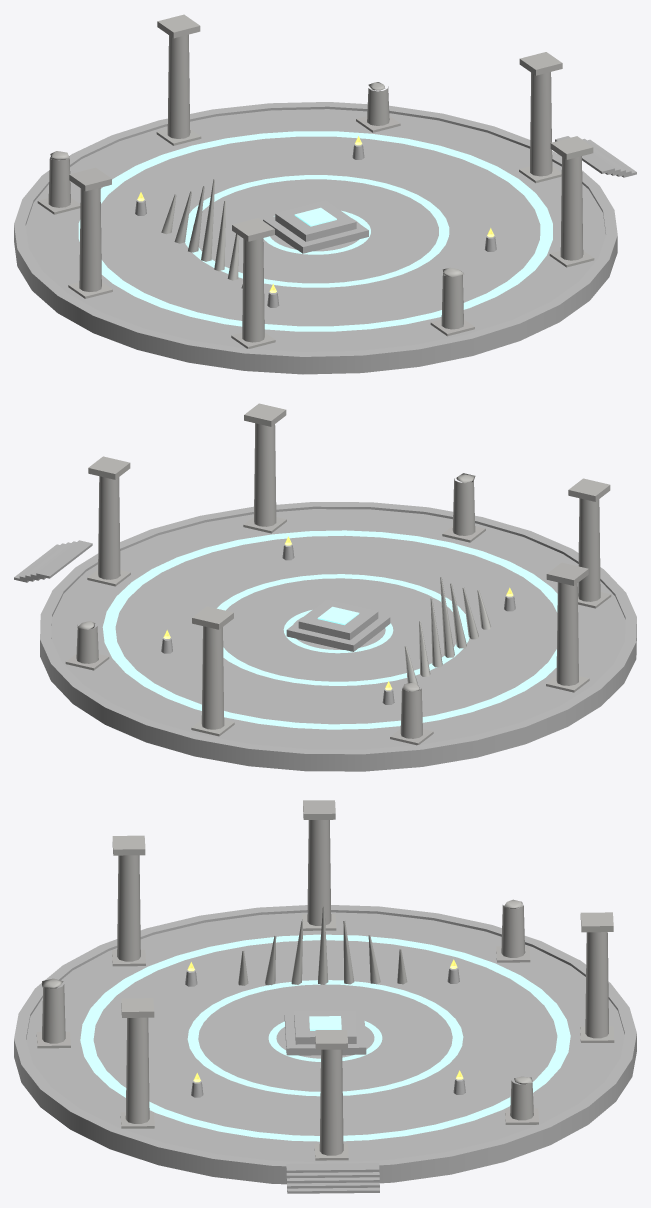
File: struct_4_1.glb
3 renders of one model, top to bottom at view 1: azimuth 30°, elevation 25°; view 2: azimuth 150°, elevation 25°; view 3: azimuth 270°, elevation 25°, orthographic. The views are drawn at different scales.
Parts seen in each view (by area): view 1: Landmarks; view 2: Landmarks; view 3: Landmarks.
Part boxes in pixels (left/top/right/bottom): Landmarks: left=14, top=14, right=636, bottom=374; Landmarks: left=14, top=403, right=636, bottom=771; Landmarks: left=14, top=800, right=636, bottom=1193.
Size of the model in its own units: 50.67 by 11 by 46.99.
